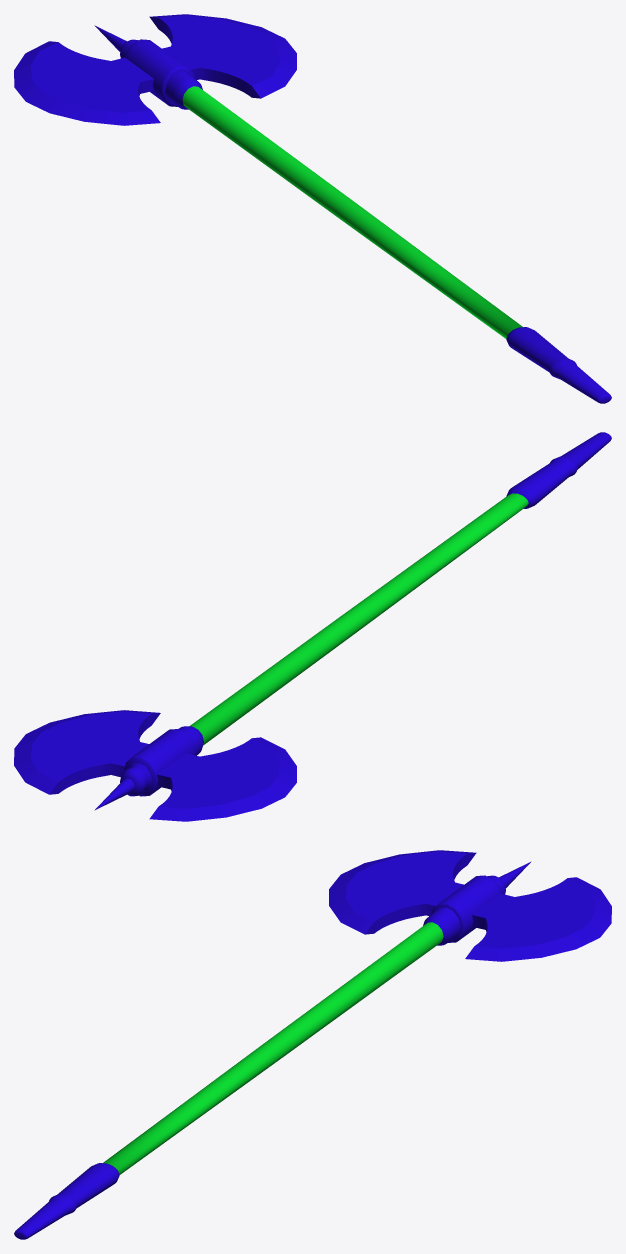
File: sm_Steel_BattleAxe.fbx
The picture shows the model from 3 angles, top to bottom: view 1: azimuth 30°, elevation 25°; view 2: azimuth 150°, elevation 25°; view 3: azimuth 330°, elevation 25°; orthographic projection.
Parts seen in each view (by area): view 1: Steel_BattleAxe; view 2: Steel_BattleAxe; view 3: Steel_BattleAxe.
Boxes of the visible parts, x1,y1,x2,y2 form: Steel_BattleAxe: (14,14,611,403); Steel_BattleAxe: (14,432,611,821); Steel_BattleAxe: (14,850,611,1239).
Bounding box in the file's own units: 53.39 × 7.98 × 182.
